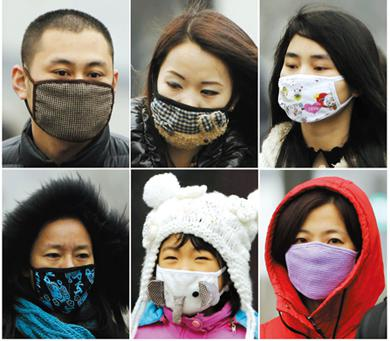OK: (33, 56, 116, 139), (284, 222, 355, 298), (277, 49, 348, 120), (156, 245, 222, 312)
WRONG: (156, 67, 232, 146), (31, 239, 94, 310)
